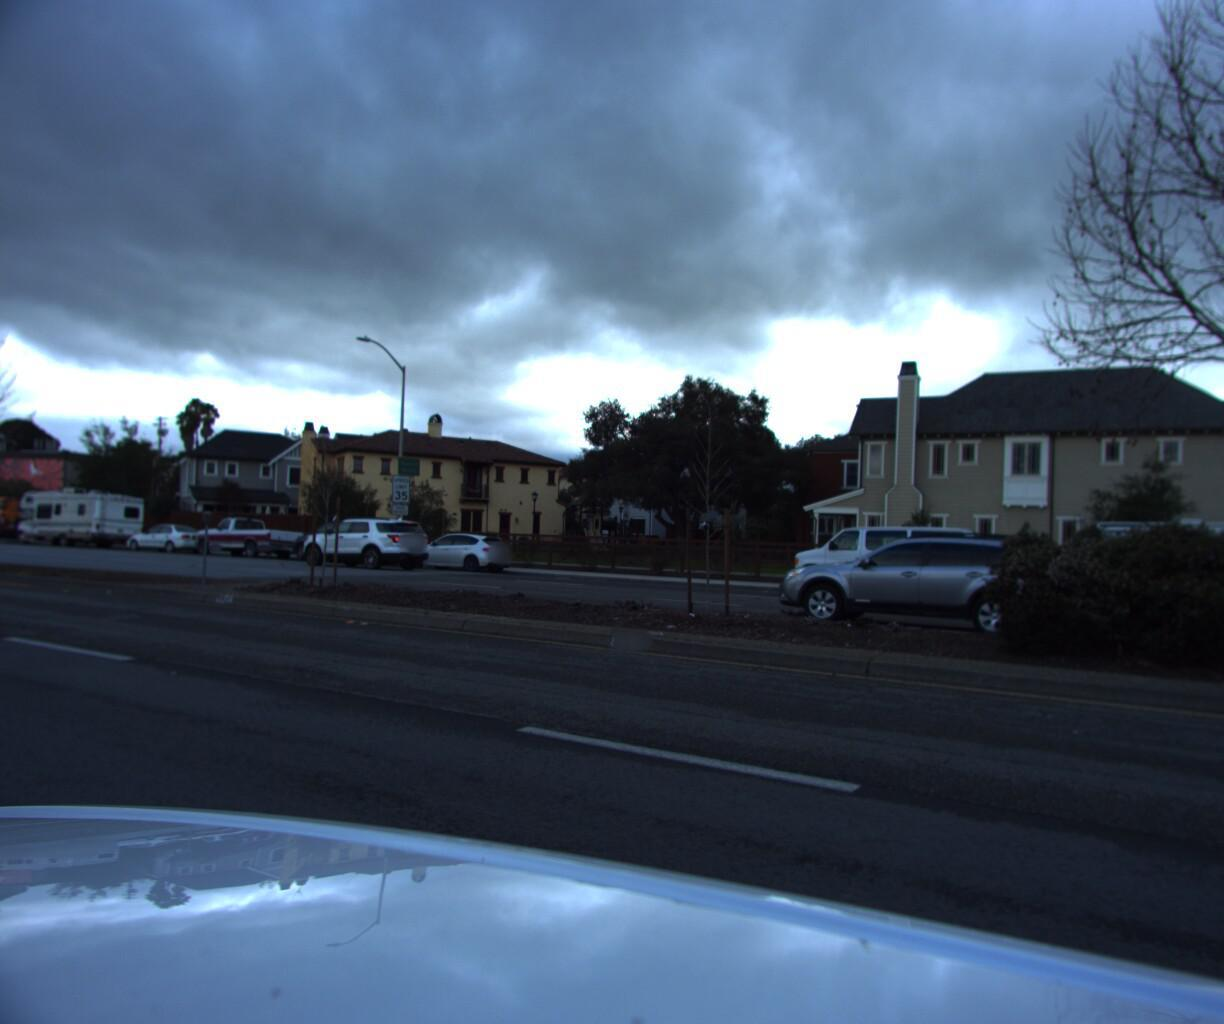car: (773, 528, 1078, 644), (1023, 510, 1224, 624), (777, 518, 988, 604), (295, 516, 444, 575), (186, 513, 308, 565), (281, 520, 401, 570), (390, 531, 517, 578), (117, 526, 212, 559)
other_vehicle: (8, 487, 152, 555)
